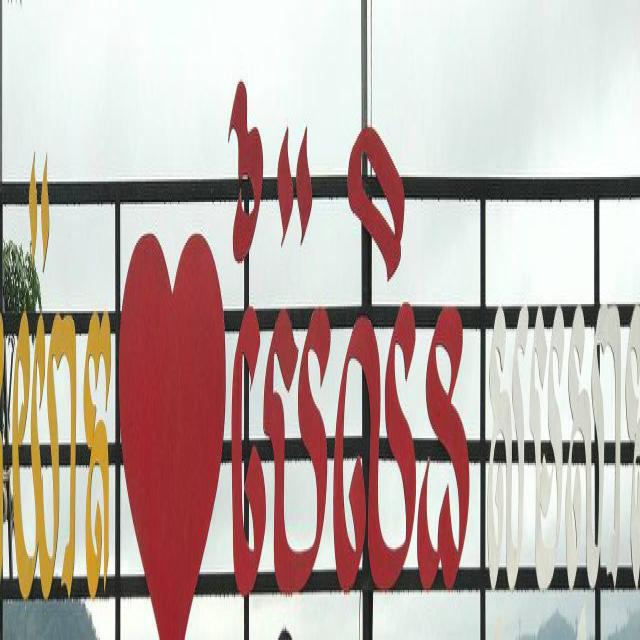Yolov11kh: (224, 61, 624, 631), (12, 143, 116, 626)
